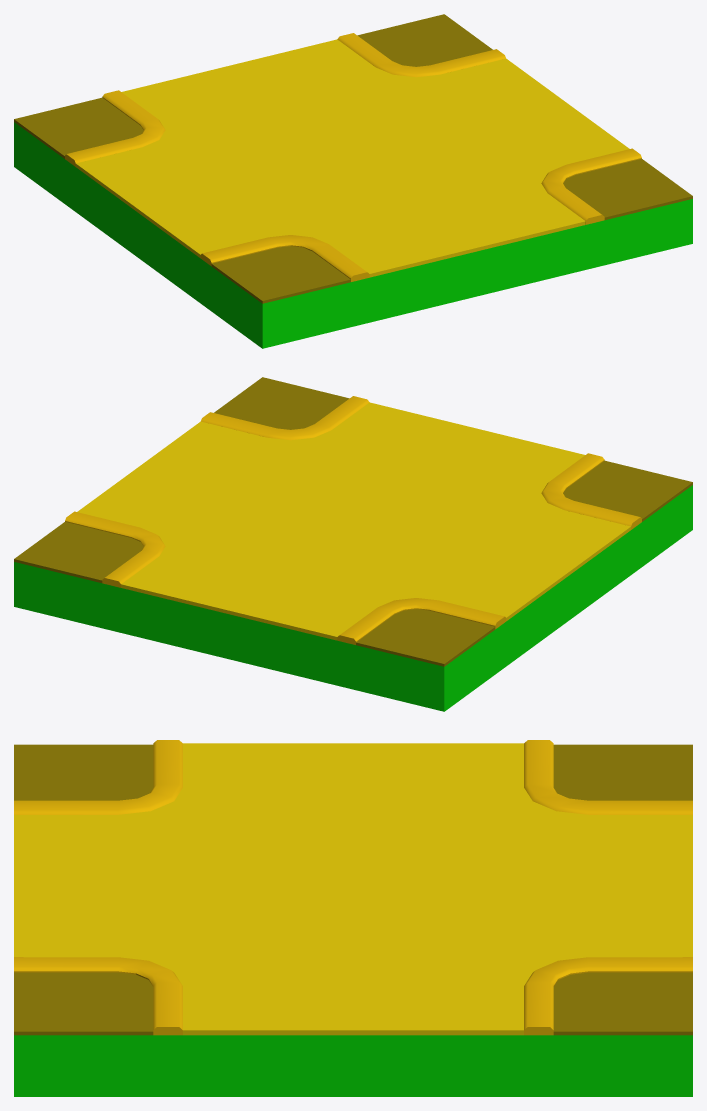
File: XStreet_SM.fbx
3 renders of one model, top to bottom at view 1: azimuth 30°, elevation 25°; view 2: azimuth 150°, elevation 25°; view 3: azimuth 270°, elevation 25°, orthographic. The views are drawn at different scales.
Visible parts, largest first — view 1: XStreet2; view 2: XStreet2; view 3: XStreet2.
Part boxes in pixels (<box>): XStreet2: <box>14,14,692,348</box>; XStreet2: <box>14,377,692,711</box>; XStreet2: <box>14,740,692,1096</box>.
Bounding box in the file's own units: 100 × 11.35 × 100.
